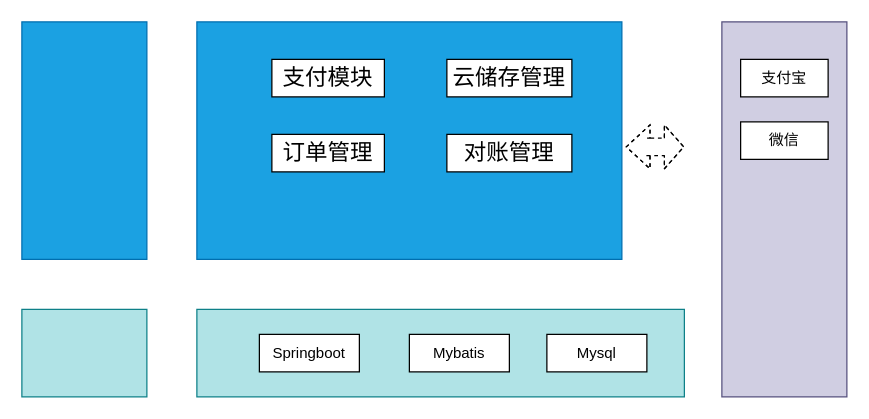
The diagram is 869 pixels wide and 419 high, and some of its shapes have lost their labels. The shapes that lost their labels are listed below. From the top down, each one's centre as x and y in pixels, then its label:
point (84, 140): 业务 平台
point (84, 352): 技术 架构
